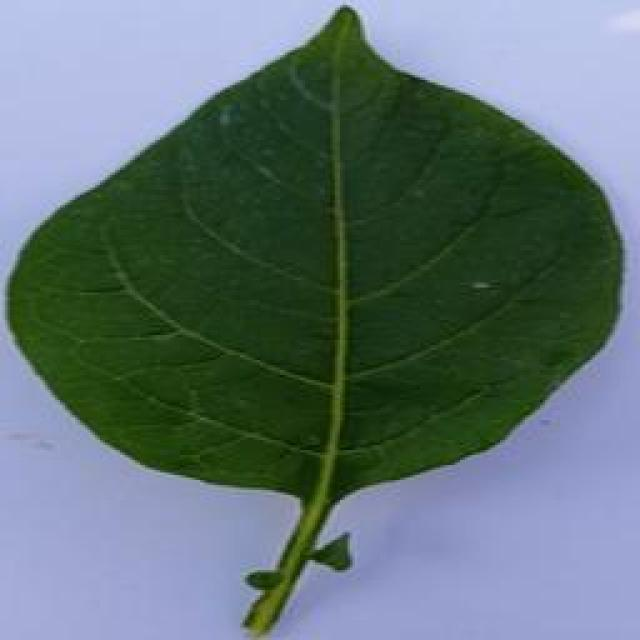Potato_Healthy: (4, 8, 628, 509)
